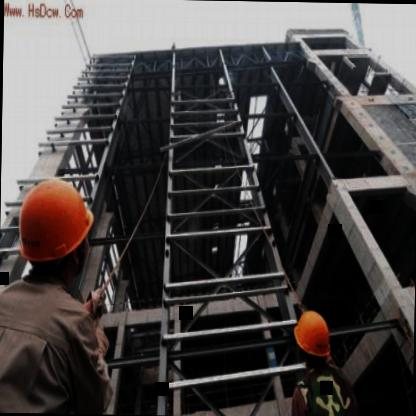helmet: (9, 164, 103, 290), (291, 304, 335, 370)
